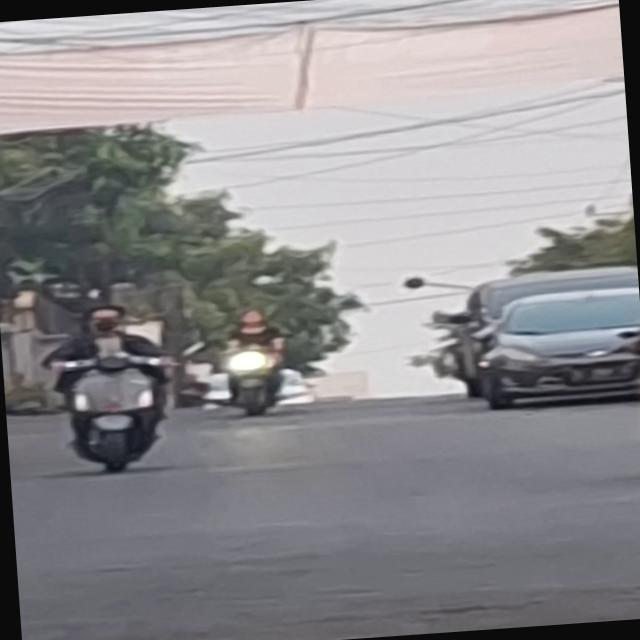WithoutHelmet: (35, 300, 176, 476), (209, 308, 293, 410)
